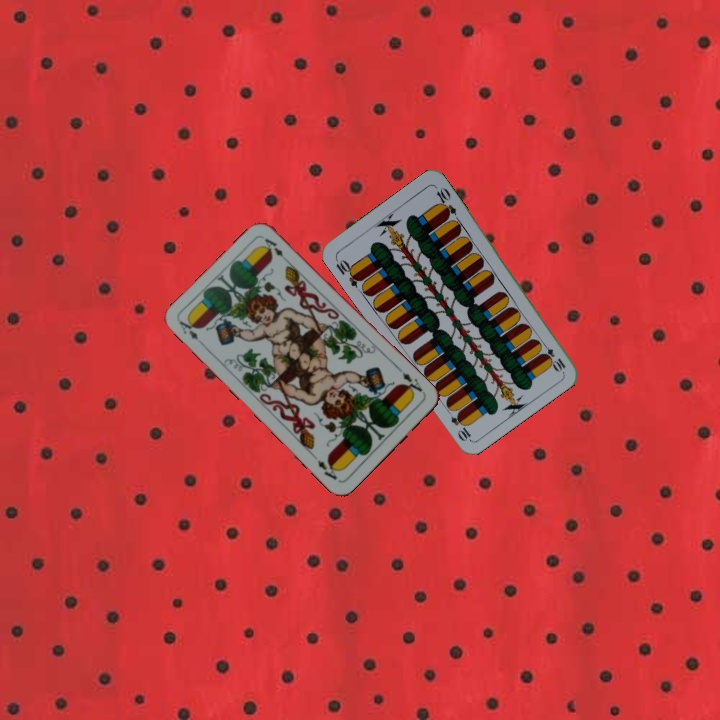E10: (331, 254, 365, 290), (537, 338, 568, 374)
EA: (398, 368, 425, 398), (175, 315, 201, 343)
